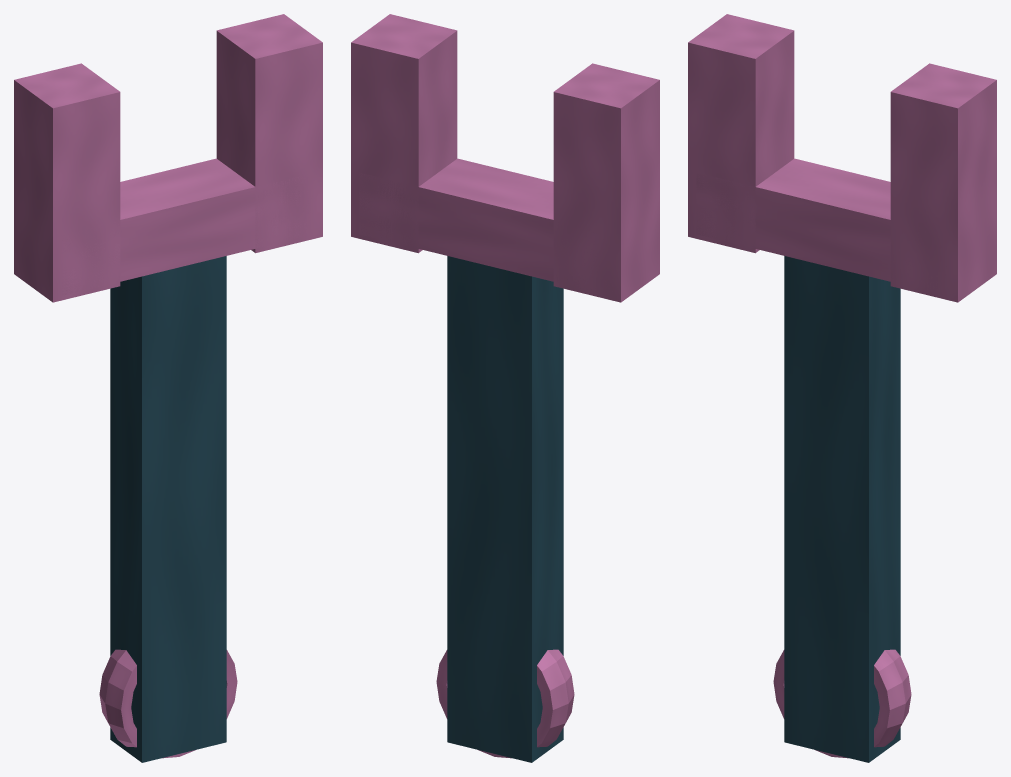
Rendered from atlas100-s069-a05.glb.
3 renders of one model, left to right at view 1: azimuth 30°, elevation 25°; view 2: azimuth 150°, elevation 25°; view 3: azimuth 330°, elevation 25°, orthographic.
Visible parts, largest first — view 1: atlas100-s069-a05:part-000, atlas100-s069-a05:part-001, atlas100-s069-a05:part-002, atlas100-s069-a05:part-003, atlas100-s069-a05:part-004; view 2: atlas100-s069-a05:part-000, atlas100-s069-a05:part-001, atlas100-s069-a05:part-002, atlas100-s069-a05:part-003, atlas100-s069-a05:part-004; view 3: atlas100-s069-a05:part-000, atlas100-s069-a05:part-002, atlas100-s069-a05:part-001, atlas100-s069-a05:part-003, atlas100-s069-a05:part-004.
Boxes of the visible parts, x1,y1,x2,y2 form: atlas100-s069-a05:part-000: [110, 256, 226, 762]; atlas100-s069-a05:part-001: [14, 63, 120, 302]; atlas100-s069-a05:part-002: [216, 14, 322, 253]; atlas100-s069-a05:part-003: [61, 158, 313, 295]; atlas100-s069-a05:part-004: [99, 649, 237, 758]; atlas100-s069-a05:part-000: [447, 256, 563, 762]; atlas100-s069-a05:part-001: [553, 63, 659, 302]; atlas100-s069-a05:part-002: [351, 14, 457, 253]; atlas100-s069-a05:part-003: [359, 158, 612, 294]; atlas100-s069-a05:part-004: [436, 649, 574, 758]; atlas100-s069-a05:part-000: [784, 256, 900, 762]; atlas100-s069-a05:part-002: [890, 63, 996, 302]; atlas100-s069-a05:part-001: [688, 14, 794, 253]; atlas100-s069-a05:part-003: [696, 158, 948, 293]; atlas100-s069-a05:part-004: [773, 649, 911, 758].
Bounding box in the file's own units: 0.3494 × 0.8572 × 0.0874.
2 materials, 2 textured.
